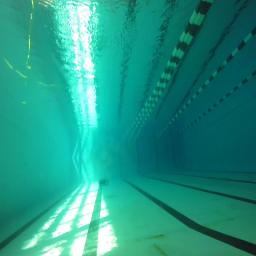Full: (99, 179, 109, 186)
